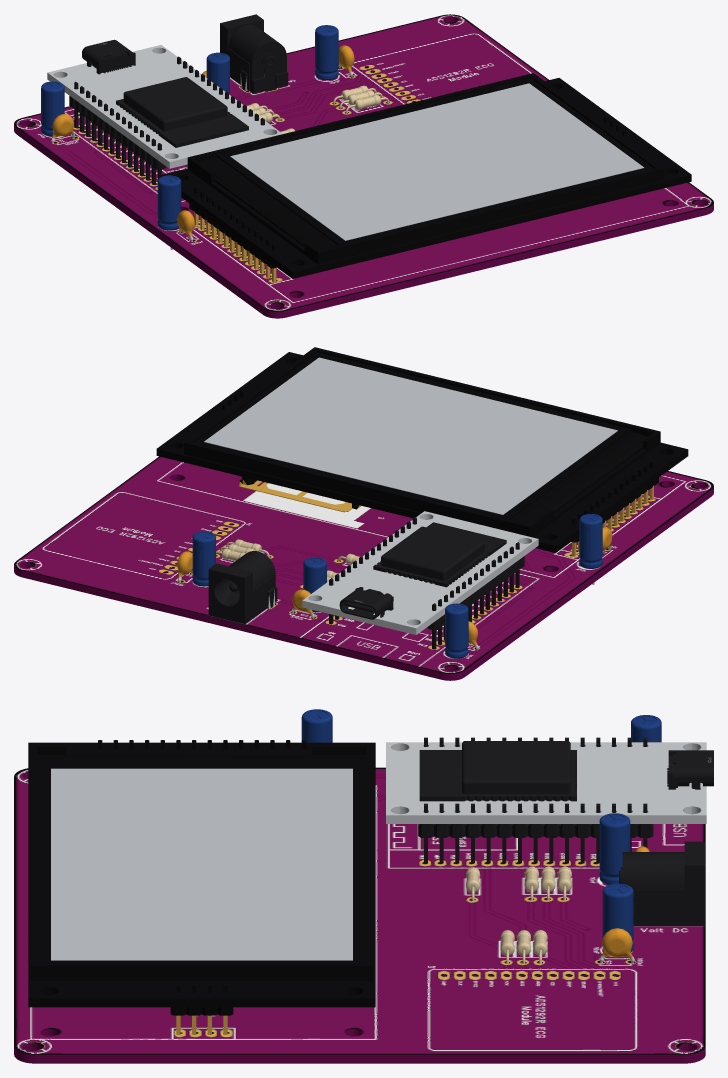
The model's file is board.glb.
3 renders of one model, top to bottom at view 1: azimuth 30°, elevation 25°; view 2: azimuth 150°, elevation 25°; view 3: azimuth 270°, elevation 25°, orthographic. The views are drawn at different scales.
Parts seen in each view (by area): view 1: U3-mesh (×3), Board-mesh, ESP1-mesh (×6), DC1-mesh, C4-mesh, C6-mesh, C2-mesh, C1-mesh; view 2: U3-mesh (×4), Board-mesh, ESP1-mesh (×5), DC1-mesh, C6-mesh, C2-mesh, C4-mesh, C1-mesh; view 3: U3-mesh (×3), Board-mesh, ESP1-mesh (×4), DC1-mesh, C1-mesh, C4-mesh, C6-mesh, C5-mesh, C2-mesh.
Part boxes in pixels (left/top/right/bottom): U3-mesh (×3): left=160, top=73, right=691, bottom=282; Board-mesh: left=14, top=14, right=713, bottom=318; ESP1-mesh (×6): left=47, top=39, right=282, bottom=184; DC1-mesh: left=220, top=14, right=288, bottom=93; C4-mesh: left=315, top=25, right=338, bottom=80; C6-mesh: left=157, top=175, right=181, bottom=249; C2-mesh: left=41, top=81, right=64, bottom=136; C1-mesh: left=206, top=52, right=229, bottom=94; U3-mesh (×4): left=156, top=347, right=688, bottom=556; Board-mesh: left=14, top=456, right=713, bottom=680; ESP1-mesh (×5): left=302, top=511, right=538, bottom=649; DC1-mesh: left=208, top=551, right=277, bottom=624; C6-mesh: left=579, top=514, right=602, bottom=584; C2-mesh: left=445, top=603, right=468, bottom=658; C4-mesh: left=192, top=531, right=215, bottom=586; C1-mesh: left=303, top=557, right=326, bottom=612; U3-mesh (×3): left=28, top=740, right=375, bottom=1034; Board-mesh: left=14, top=767, right=705, bottom=1063; ESP1-mesh (×4): left=386, top=741, right=713, bottom=863; DC1-mesh: left=622, top=841, right=704, bottom=926; C1-mesh: left=599, top=813, right=630, bottom=884; C4-mesh: left=602, top=883, right=633, bottom=952; C6-mesh: left=301, top=709, right=332, bottom=742; C5-mesh: left=599, top=928, right=634, bottom=963; C2-mesh: left=631, top=715, right=661, bottom=742.
Size of the model in its own units: 0.1101 by 0.0174 by 0.1134.
Materials: 13 (2 with a texture image).
